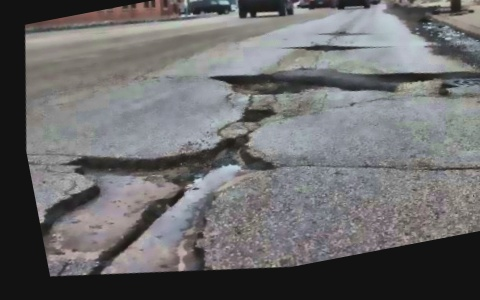pothole: (25, 95, 305, 300), (363, 48, 480, 102), (203, 55, 307, 113), (290, 32, 360, 62), (232, 99, 281, 130)
